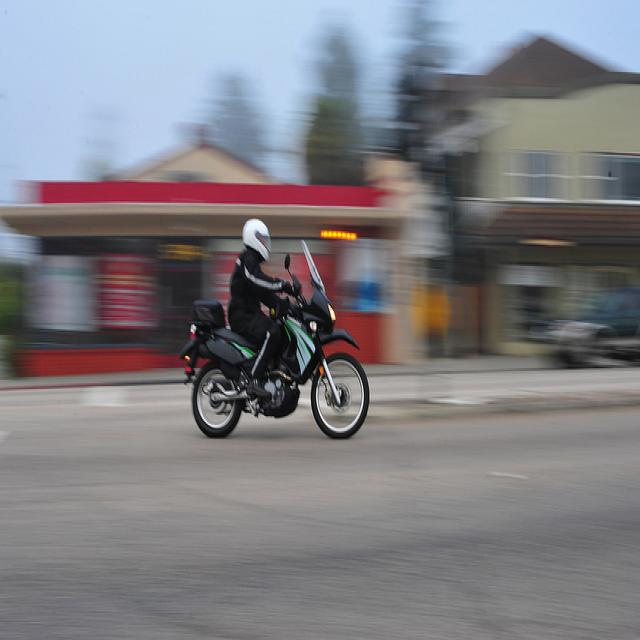motor: (181, 239, 370, 439)
